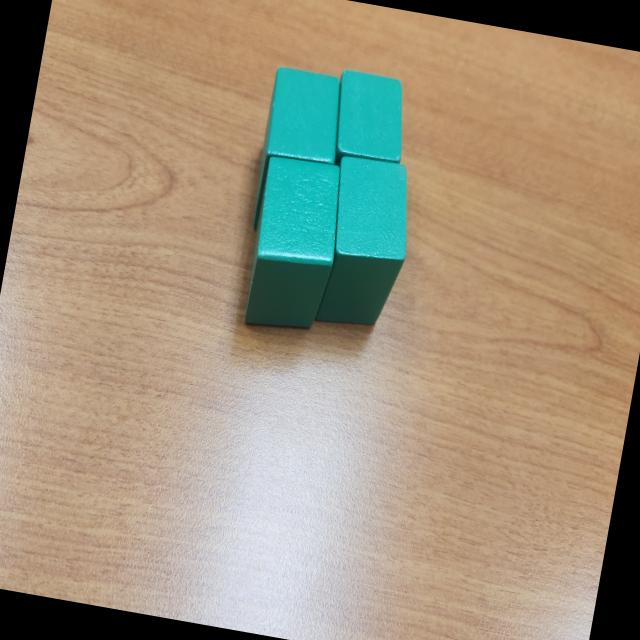green: (236, 152, 350, 336), (312, 154, 422, 335), (247, 64, 352, 243), (326, 68, 414, 176)
